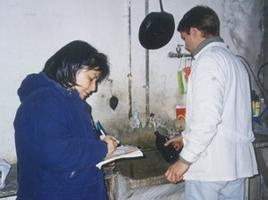person without safety: (174, 2, 261, 181), (28, 38, 122, 147)
